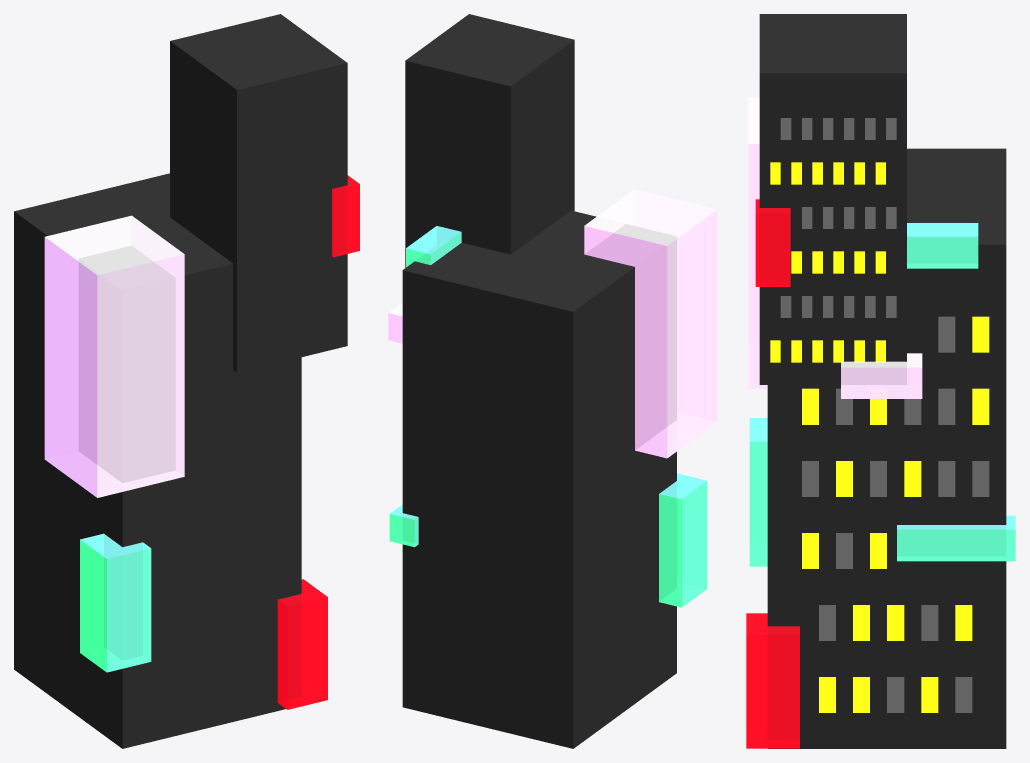
Rendered from building_002.FBX.
3 renders of one model, left to right at view 1: azimuth 30°, elevation 25°; view 2: azimuth 150°, elevation 25°; view 3: azimuth 270°, elevation 25°, orthographic. The views are drawn at different scales.
Visible parts, largest first — view 1: Box001; view 2: Box001; view 3: Box001.
Boxes of the visible parts, <box> form: Box001: <box>14,14,359,748</box>; Box001: <box>388,14,717,748</box>; Box001: <box>746,14,1015,748</box>.
Bounding box in the file's own units: 25.96 × 59.16 × 20.69.
